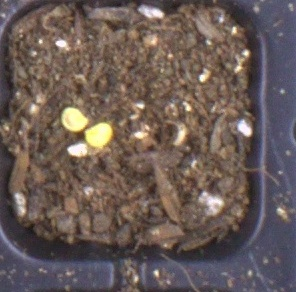chilli seed: (84, 122, 113, 148), (60, 106, 88, 132)
